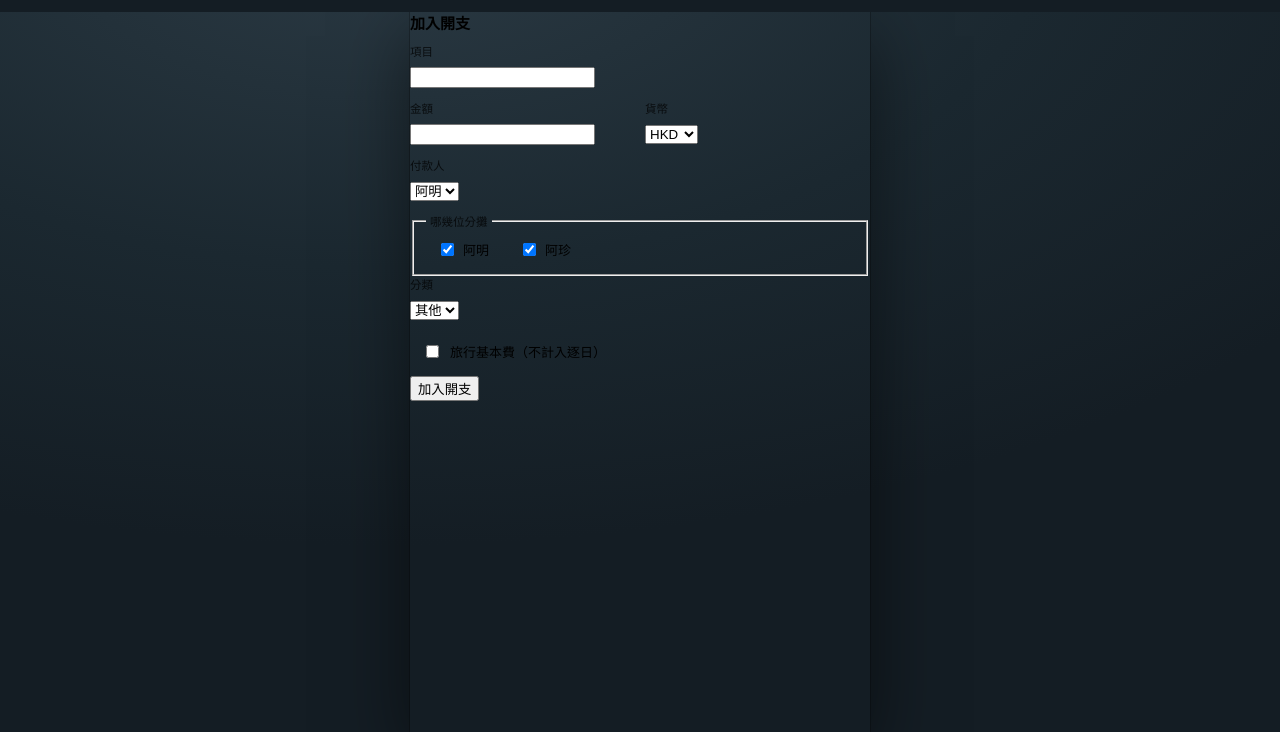
Scenario: AddExpenseForm › asks for at least one person when every split box is cleared
The image size is (1280, 732).
Type "午餐" into the field labelled "項目".
click(502, 78); type("午餐")  # box [410,67,595,88]
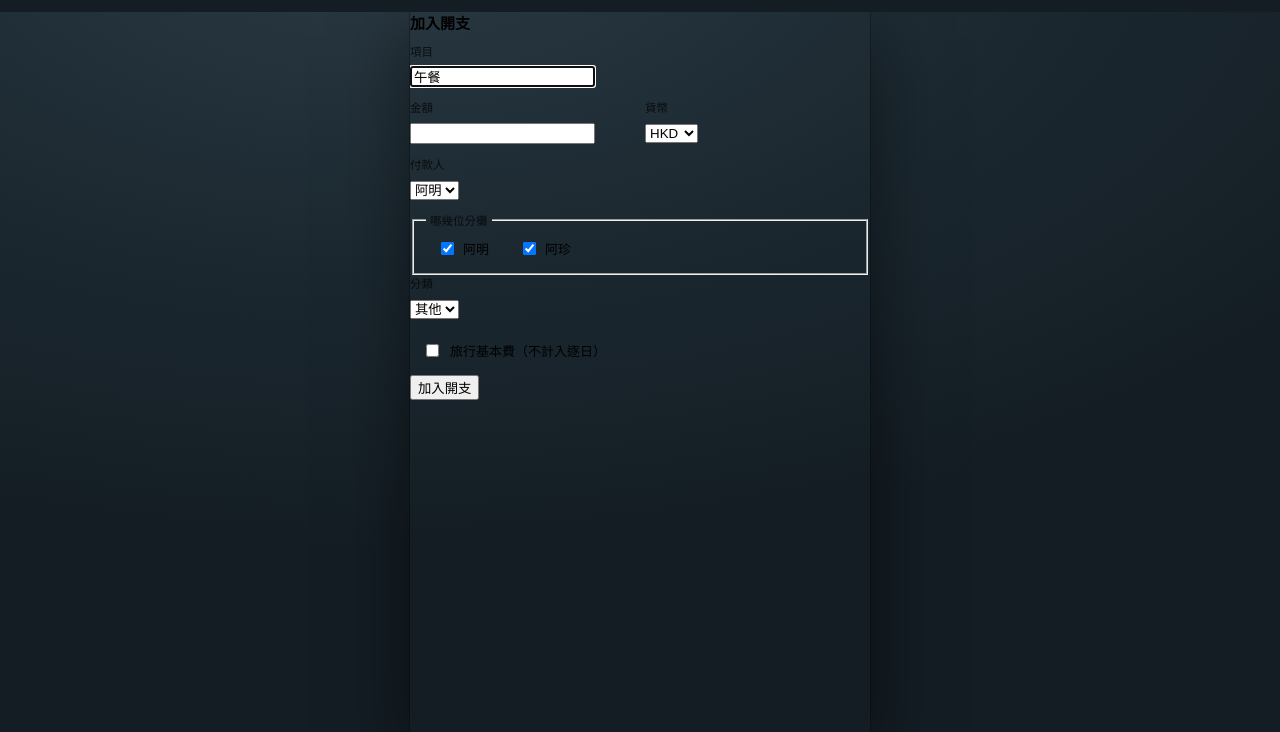
Type "500" into the number field labelled "金額".
click(502, 134); type("500")  # box [410,123,595,144]
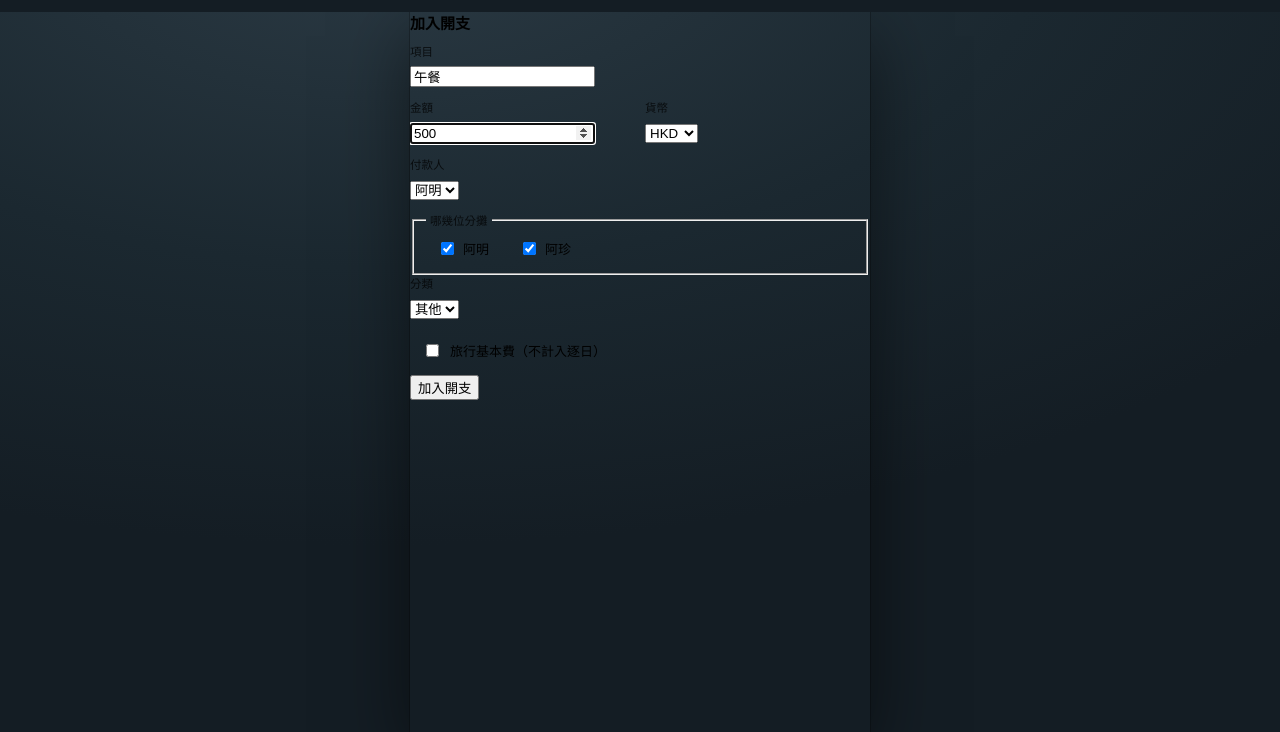
Click the checkbox labelled "阿明".
click(448, 248)  # box [441,242,454,255]
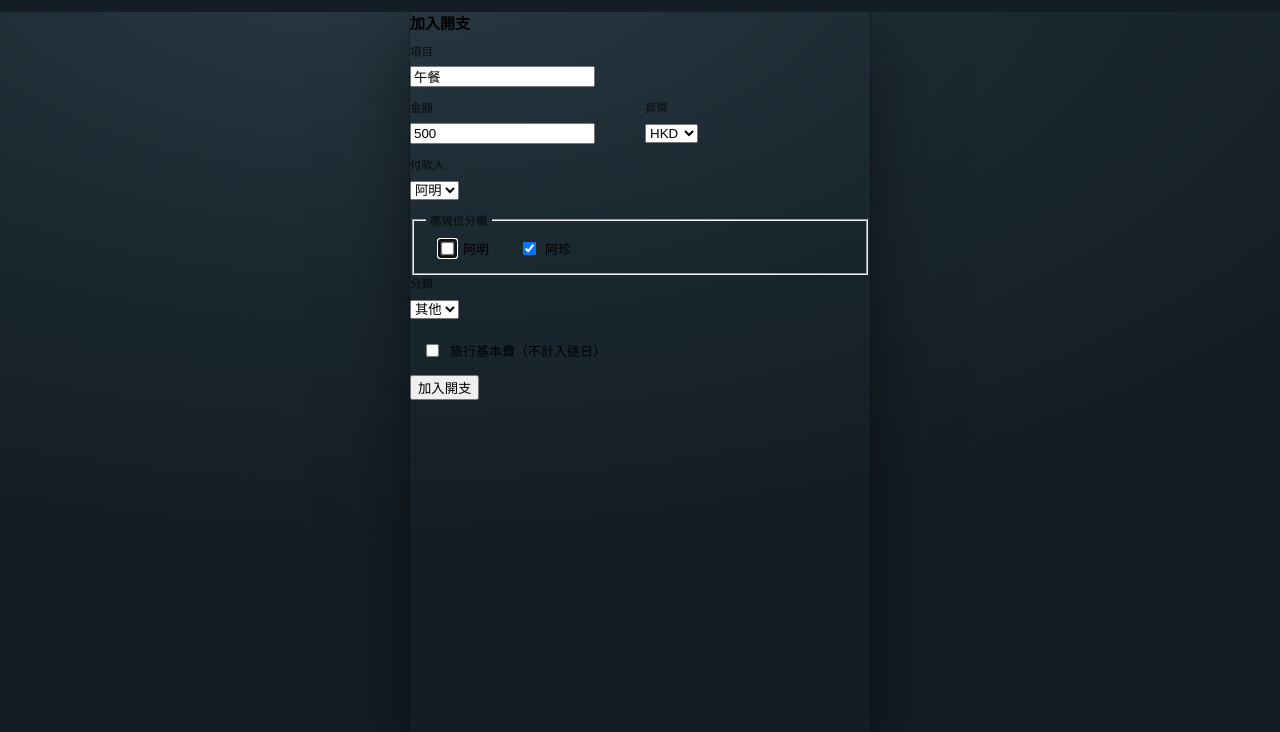
Click the checkbox labelled "阿珍".
click(530, 248)  # box [523,242,536,255]
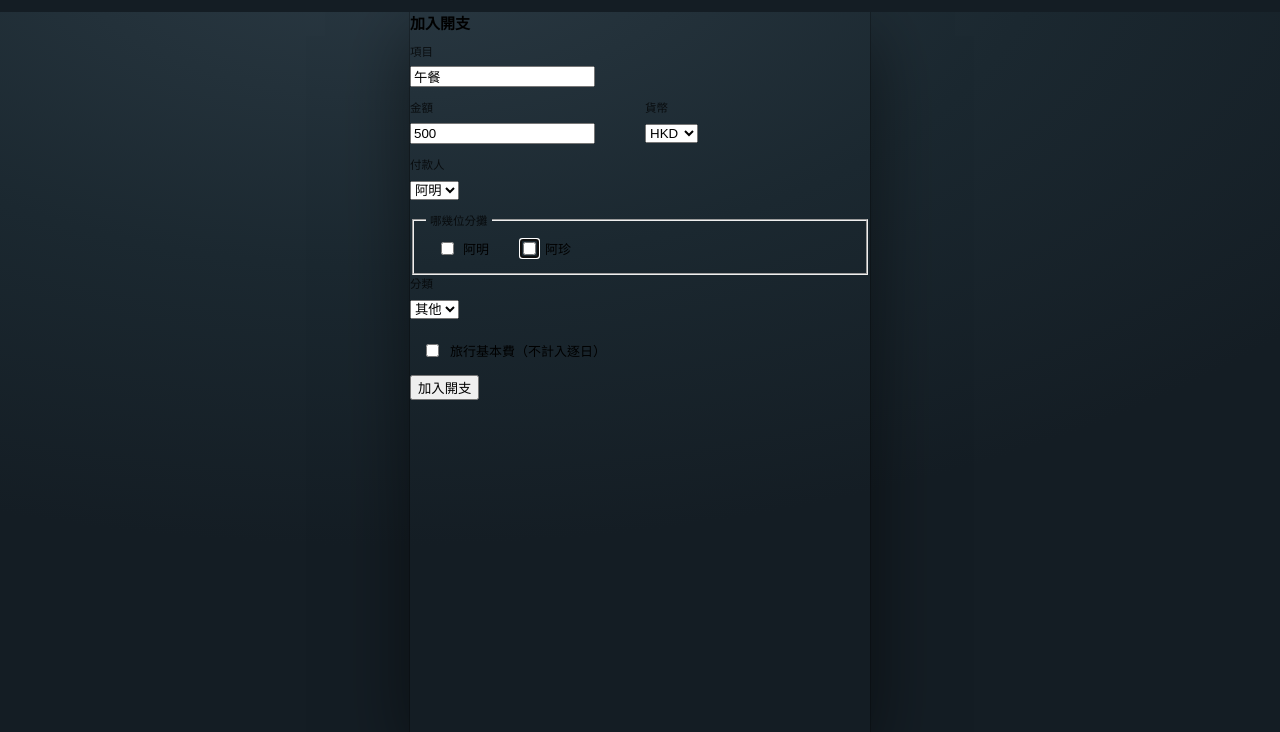
Click the button "加入開支".
click(445, 387)  # box [410,375,479,400]
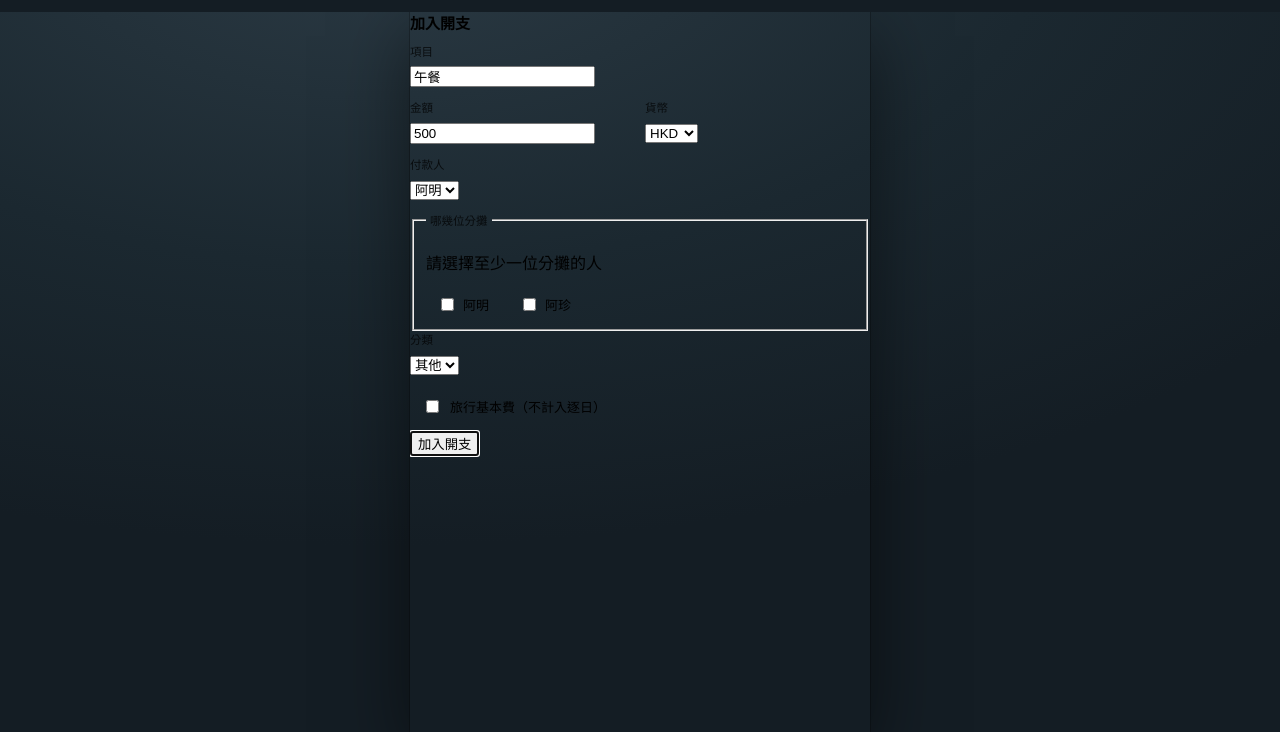
Expected: the message reads "請選擇至少一位分攤的人", [426,250,602,274]
